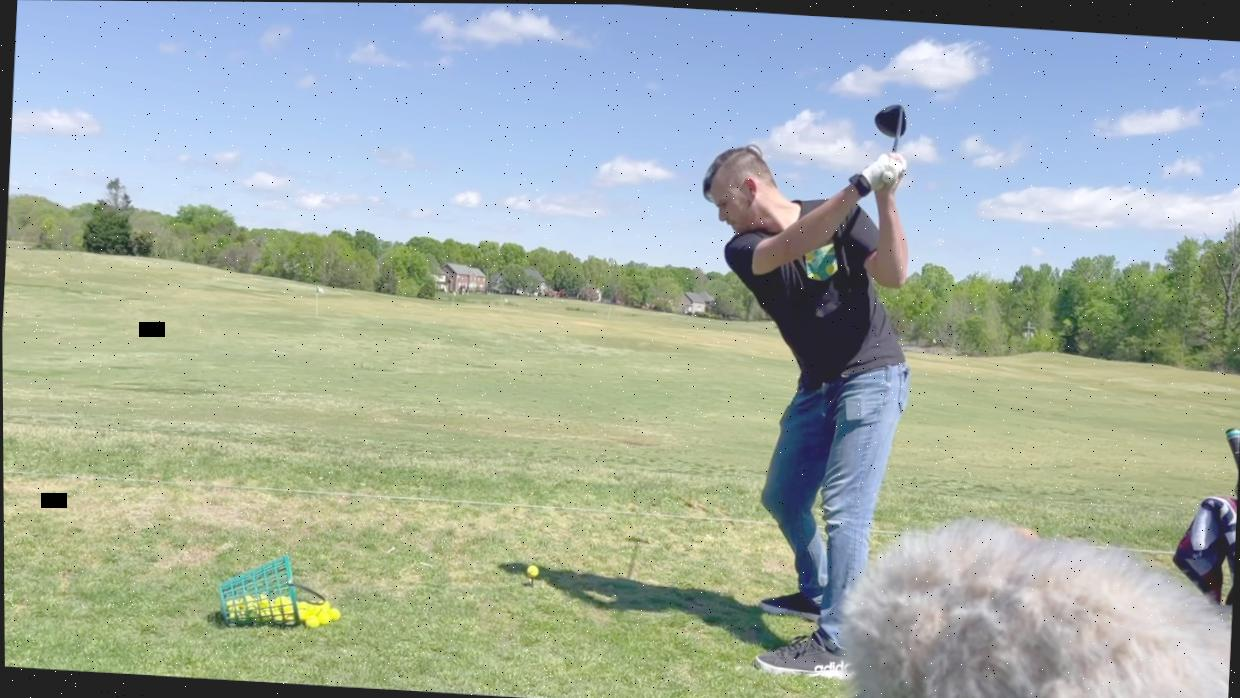ClubHead: (868, 93, 917, 149)
GolfBall: (523, 562, 540, 580)
